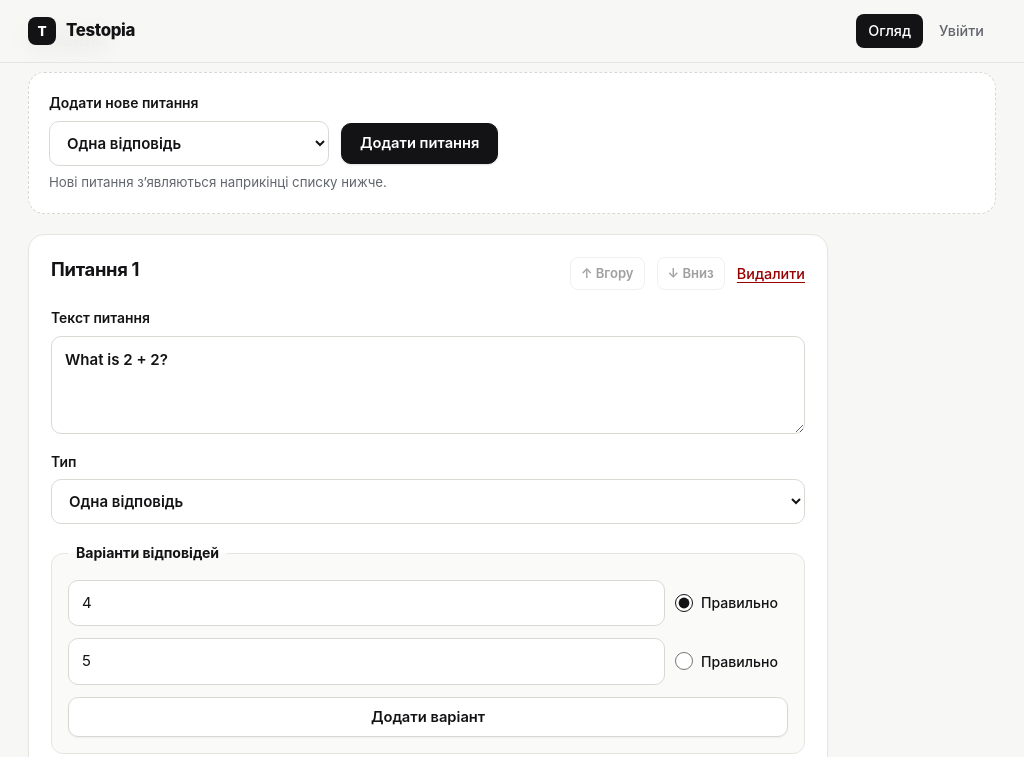
test frontend › disables save while the question matches the saved version
(page scrolled)
Expected: the heading "Питання 1" is shown, [51,257,139,282]
Replace the text in the text box showing "What is 2 + 2?" with "What is 2 + 2 (edited)?" at (428, 385), box [51,336,805,434]
(page scrolled)
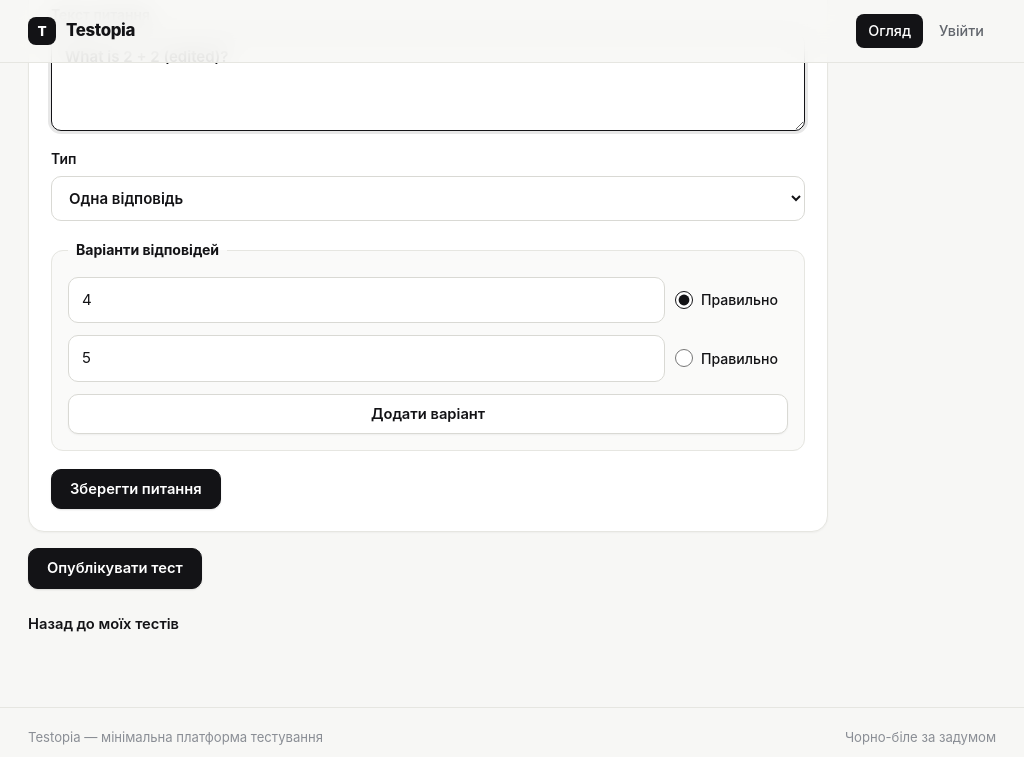
Expected: the button "Зберегти питання" is enabled
Click the button "Зберегти питання" at (136, 489), box [51,469,221,510]
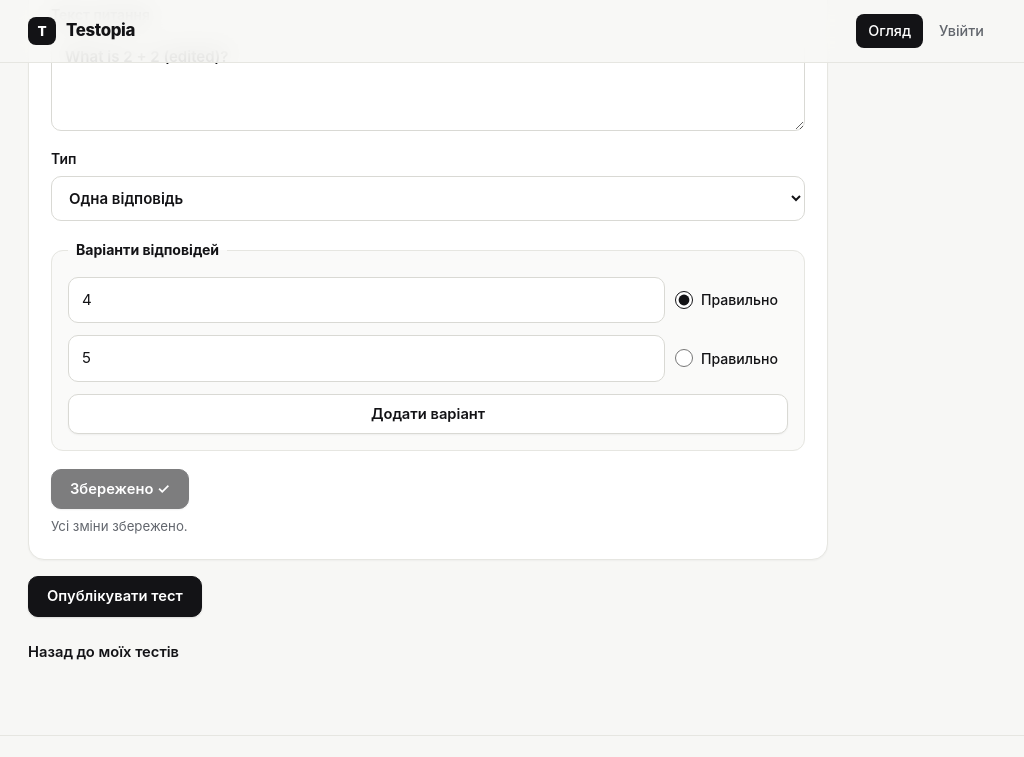
Expected: the button "Збережено ✓" is disabled, [51,469,189,510]
